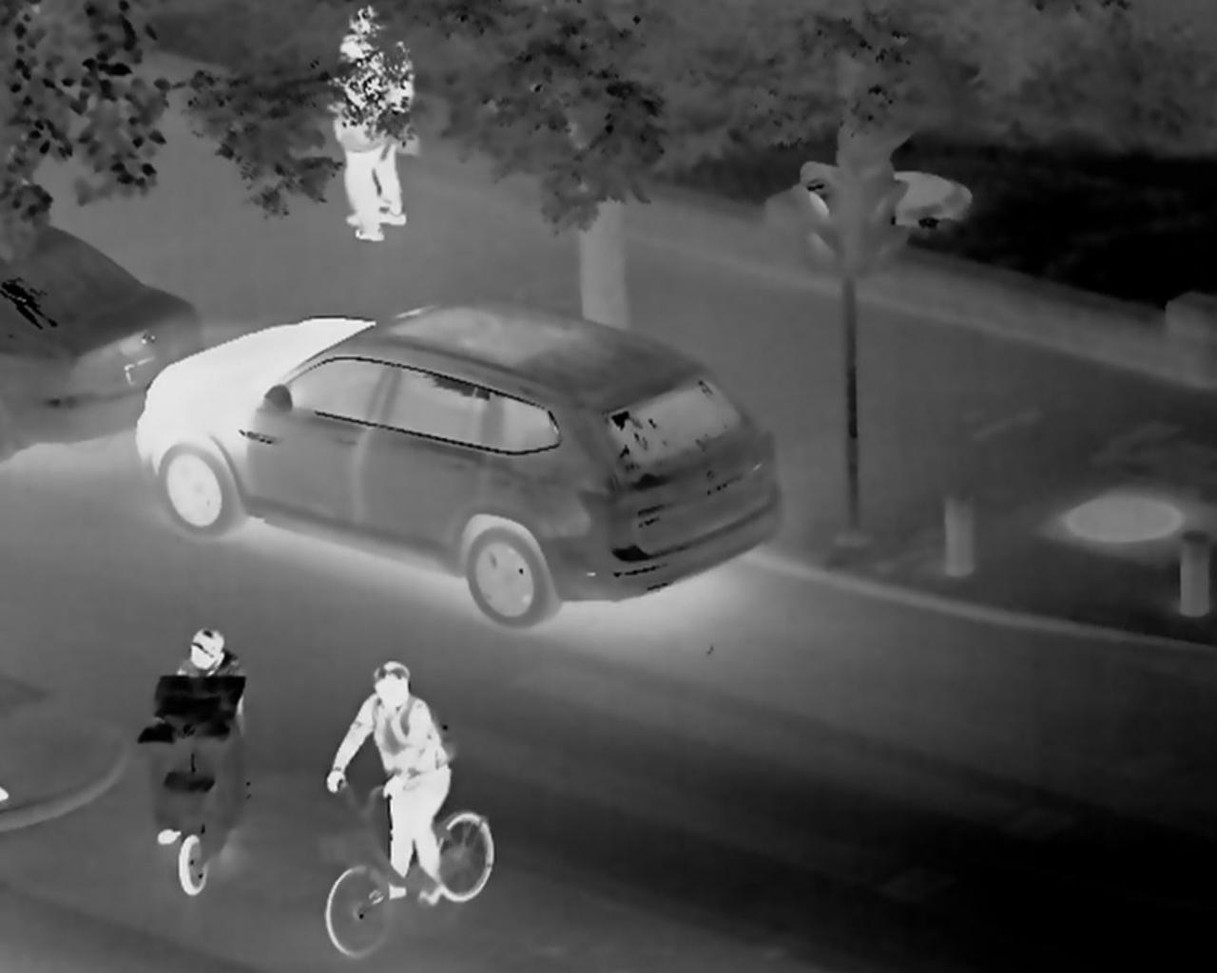person: (324, 663, 459, 910), (152, 626, 248, 847), (332, 10, 412, 245)
